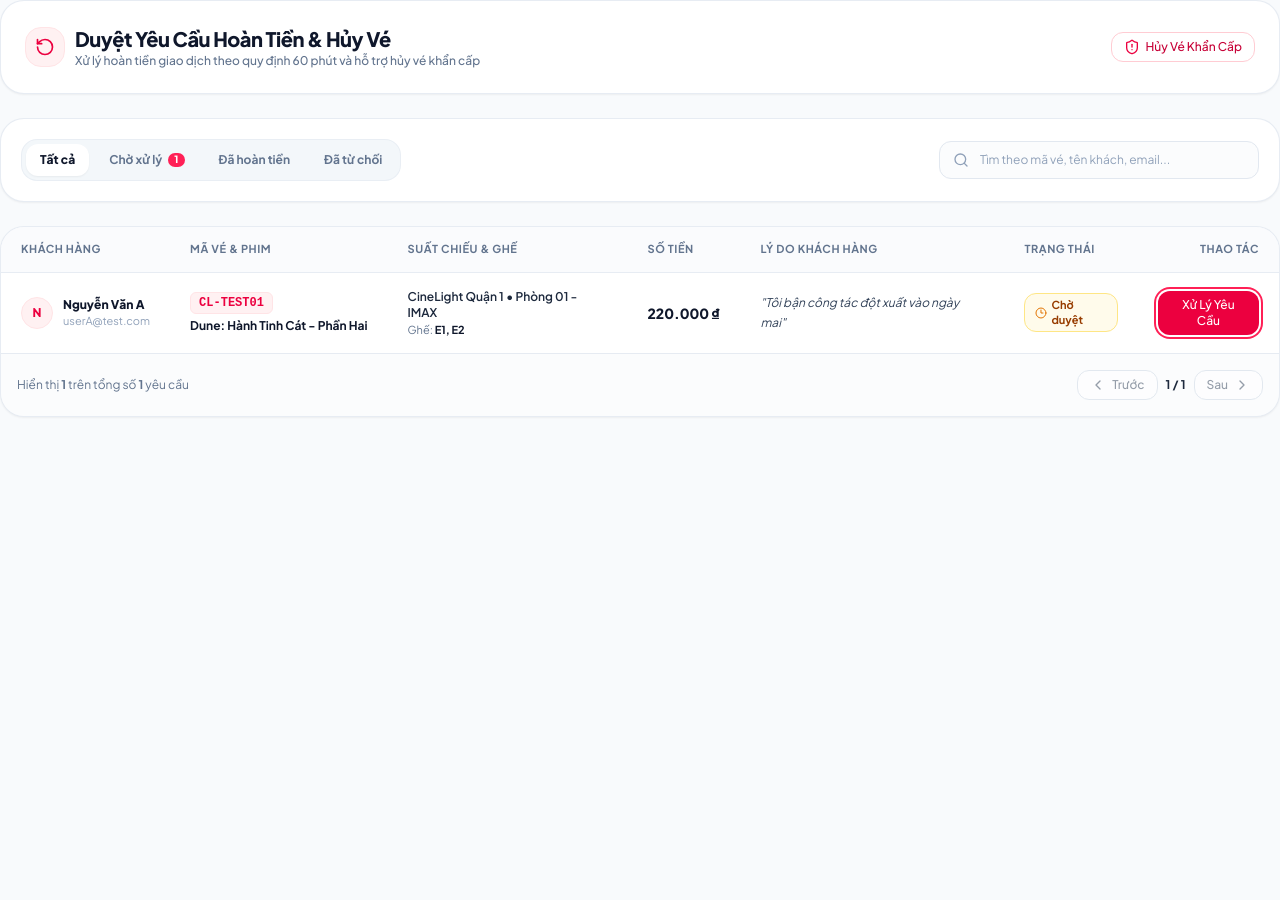
it: RefundManagement Component › closes modal and restores focus on Escape key
Click the button "Xử Lý Yêu Cầu": (1208, 313) [1158,291,1259,335]
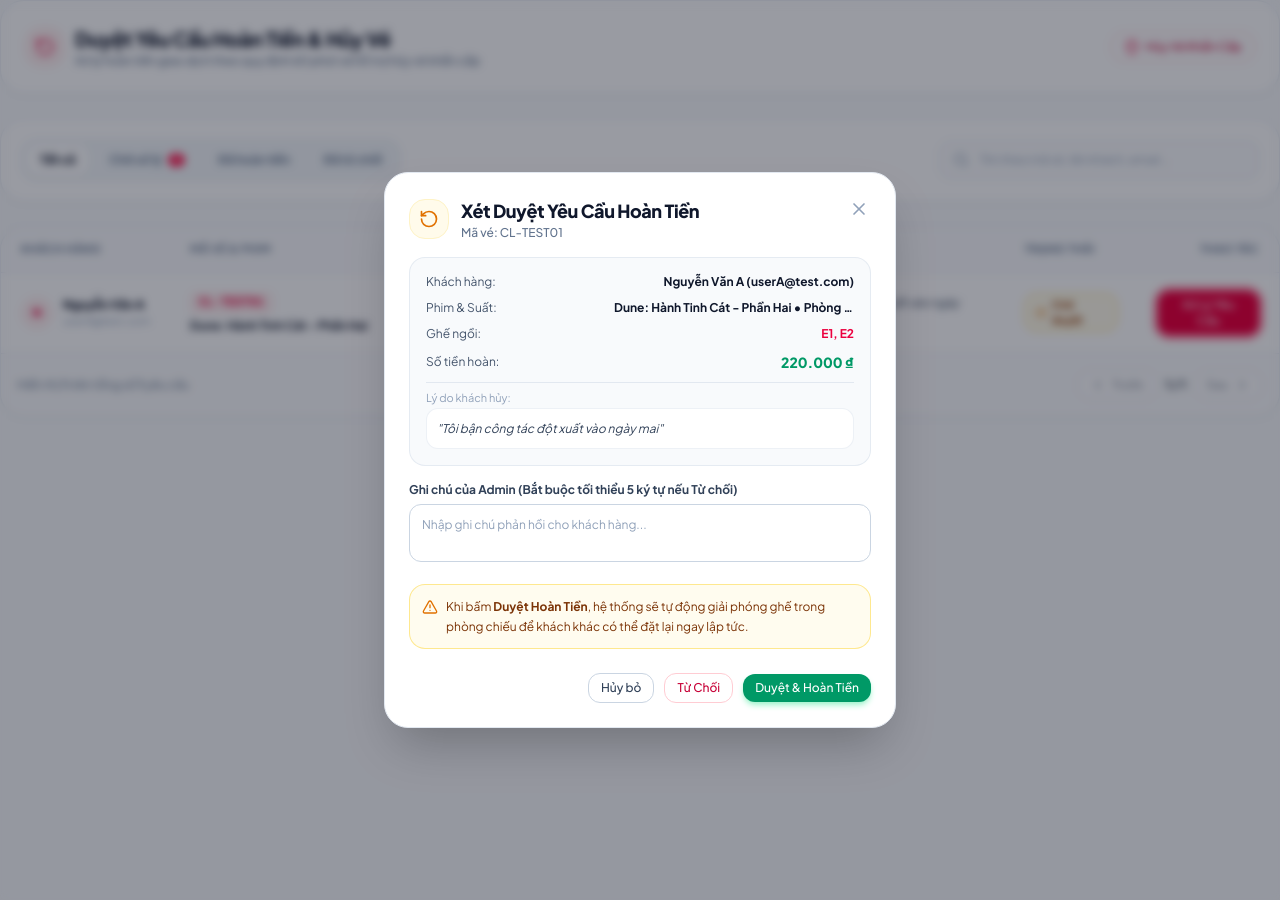
expect the dialog is shown: met
Press Escape
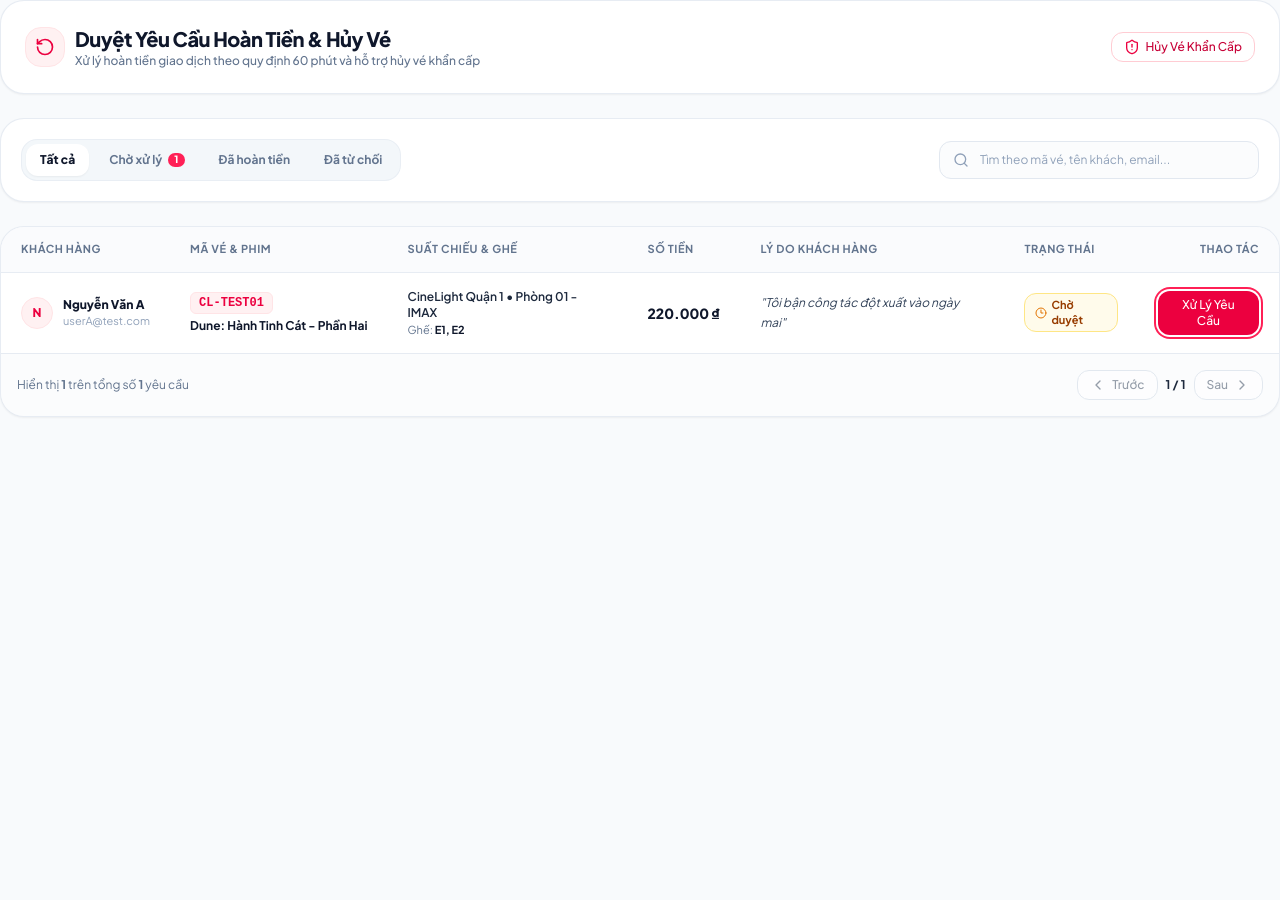
expect the dialog is gone: met
